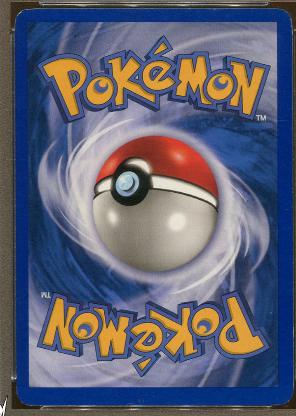Card: (10, 7, 292, 406)
Corner Wear: (15, 384, 44, 406), (13, 8, 33, 28), (270, 397, 289, 405)
Edge Wear: (287, 14, 292, 48), (291, 316, 292, 390)
Scratch: (124, 402, 132, 406)
